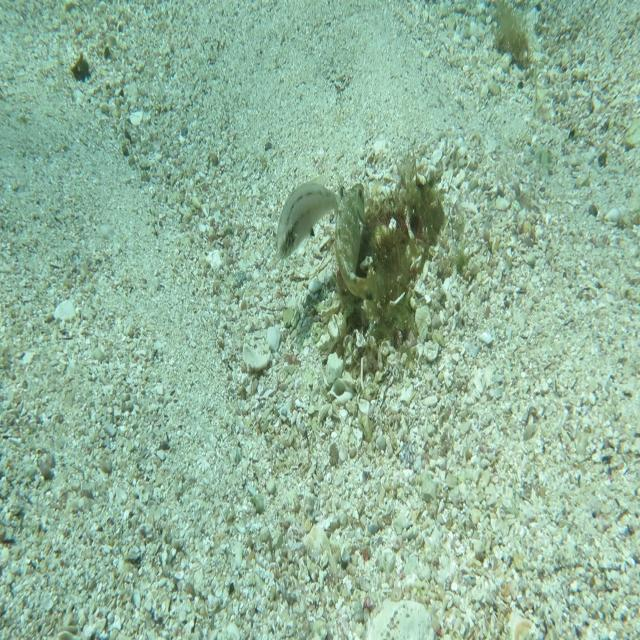BEND_OPP: (334, 182, 389, 306)
female: (274, 168, 344, 262)
nest: (332, 152, 464, 371)
